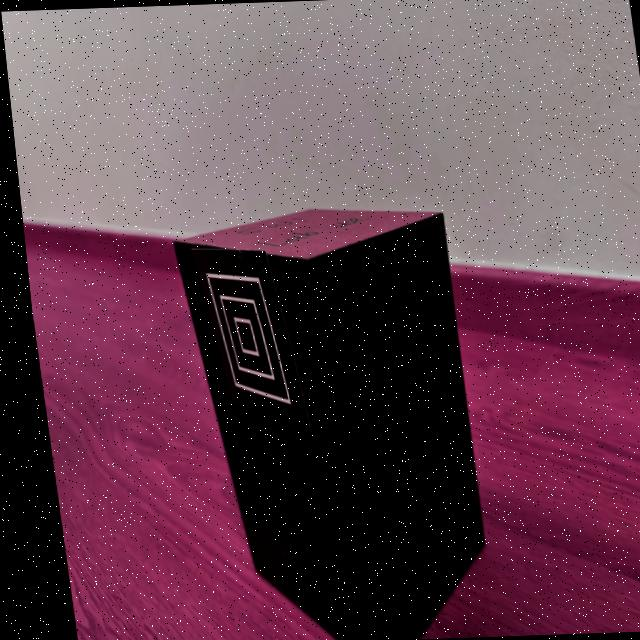BULLSEYE: (186, 248, 302, 433)
